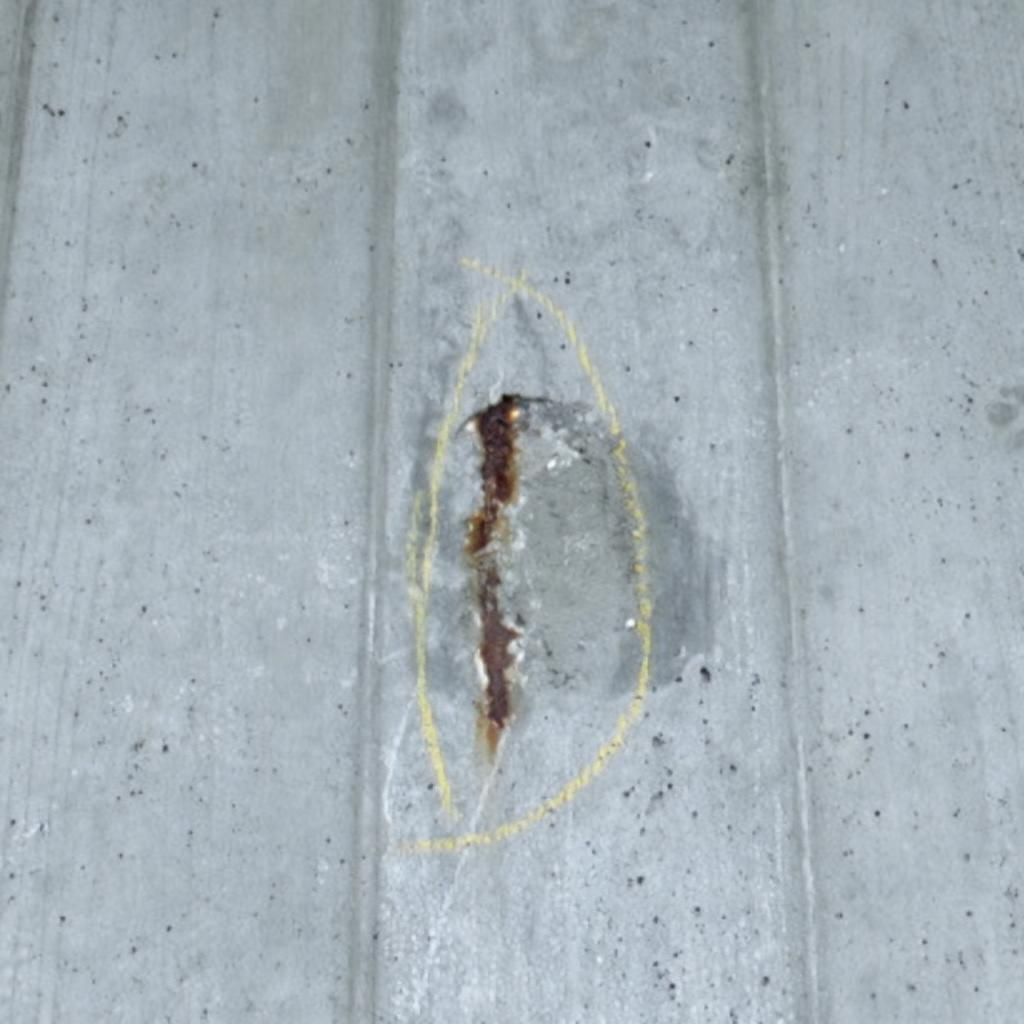exposed_rebar: (466, 396, 520, 749)
spalling: (428, 396, 710, 725)
